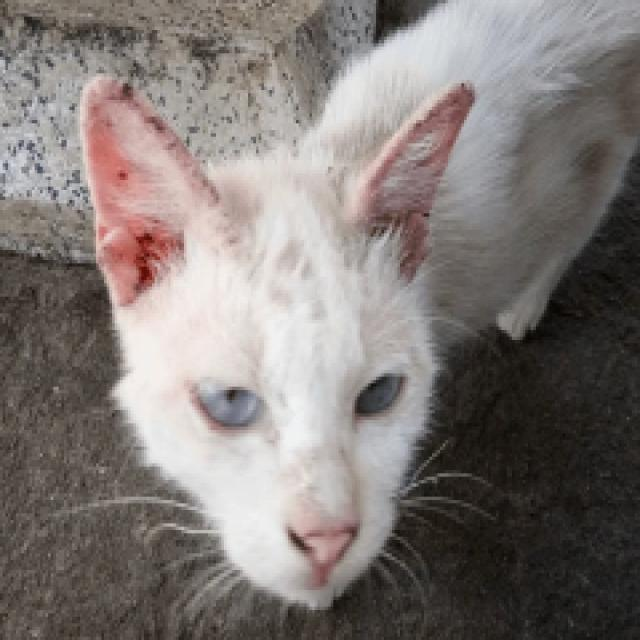Mange: (136, 110, 192, 138), (101, 71, 145, 103), (138, 226, 158, 294), (114, 153, 135, 186), (414, 202, 438, 223), (457, 71, 472, 104)
